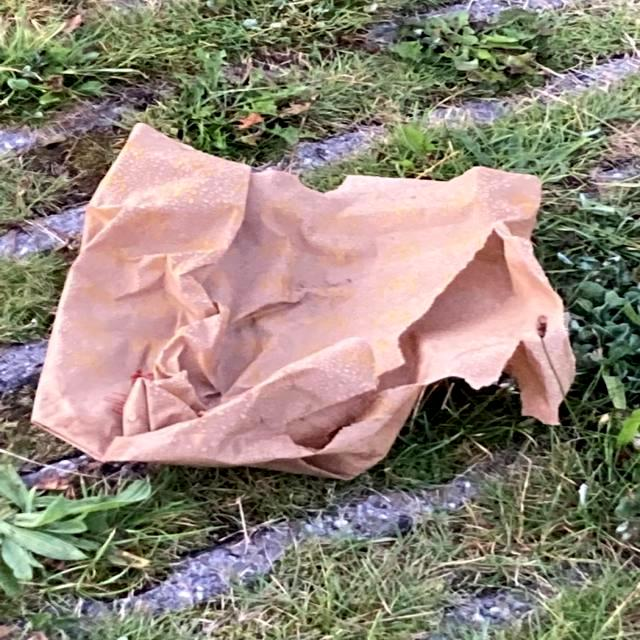Paper: (22, 120, 576, 484)
